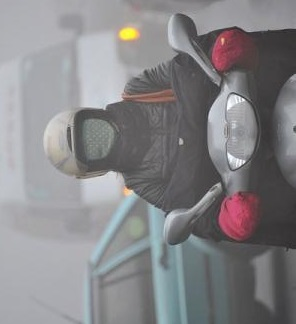person: (40, 54, 220, 211)
